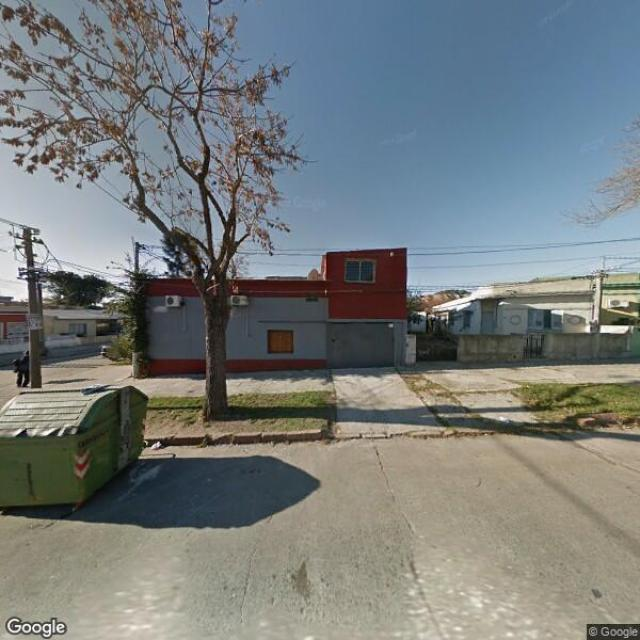garbage container: (2, 374, 177, 521)
